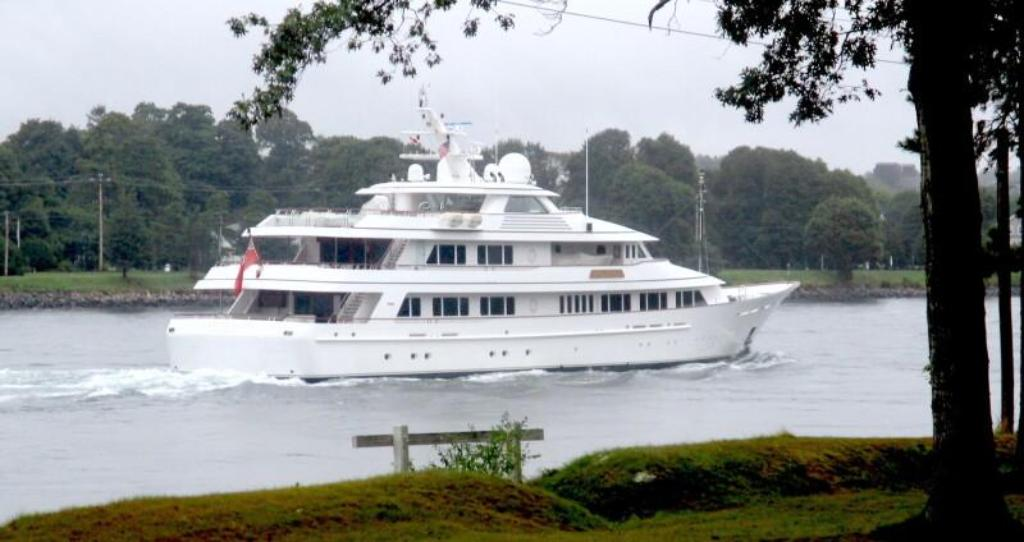PassengerShip: (164, 85, 806, 385)
